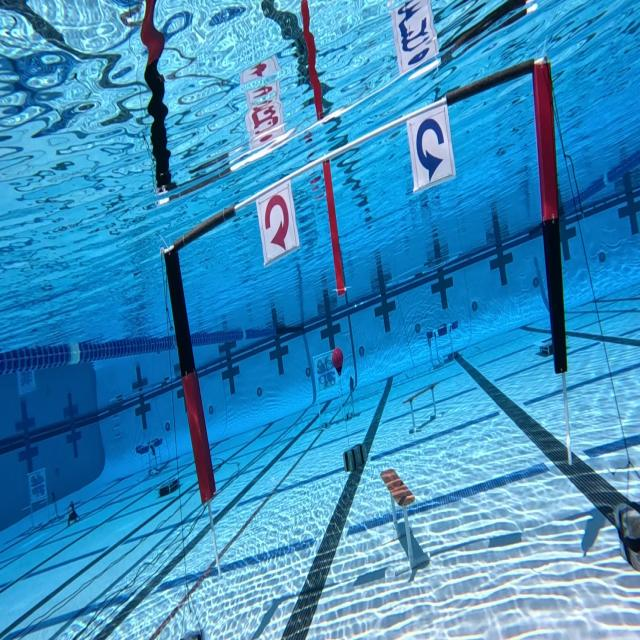blue_side: (404, 96, 464, 197)
red_side: (250, 172, 306, 268)
